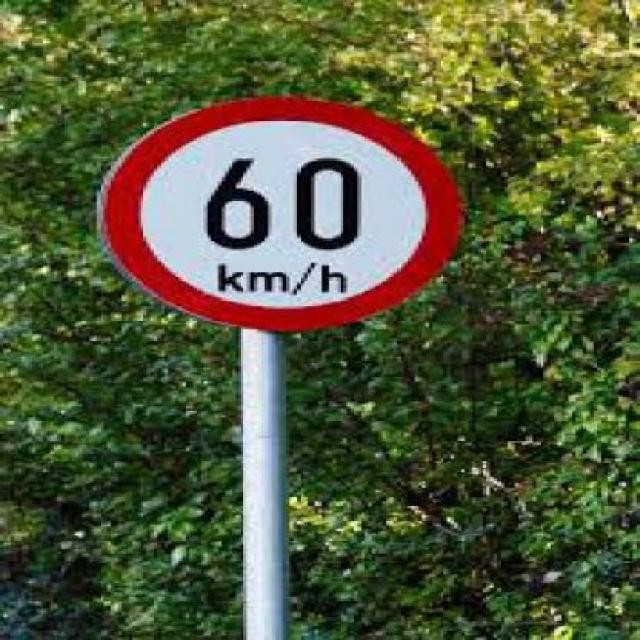forb_speed_over_60: (107, 102, 458, 329)
